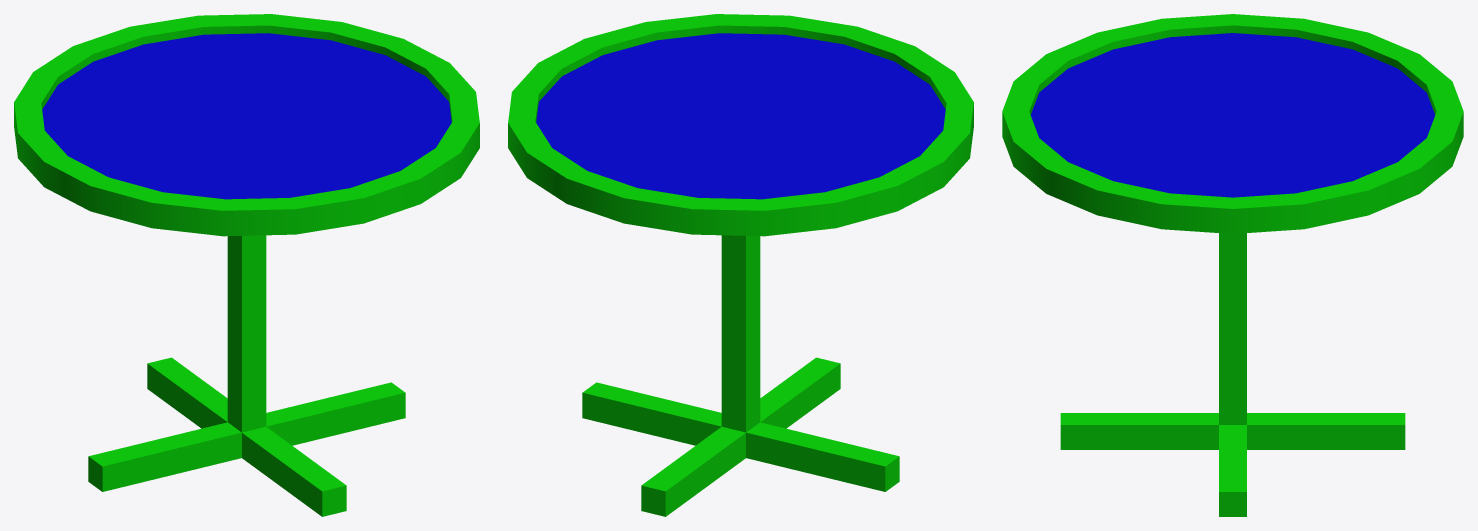
File: SM_Gardentable.fbx
The picture shows the model from 3 angles, left to right: view 1: azimuth 30°, elevation 25°; view 2: azimuth 150°, elevation 25°; view 3: azimuth 270°, elevation 25°; orthographic projection.
Visible parts, largest first — view 1: gardentable; view 2: gardentable; view 3: gardentable.
Part boxes in pixels (box(x1,y1,x2,y2)): gardentable: box(14, 14, 479, 516); gardentable: box(508, 14, 973, 516); gardentable: box(1002, 14, 1463, 516).
Size of the model in its own units: 351 by 279 by 351.
